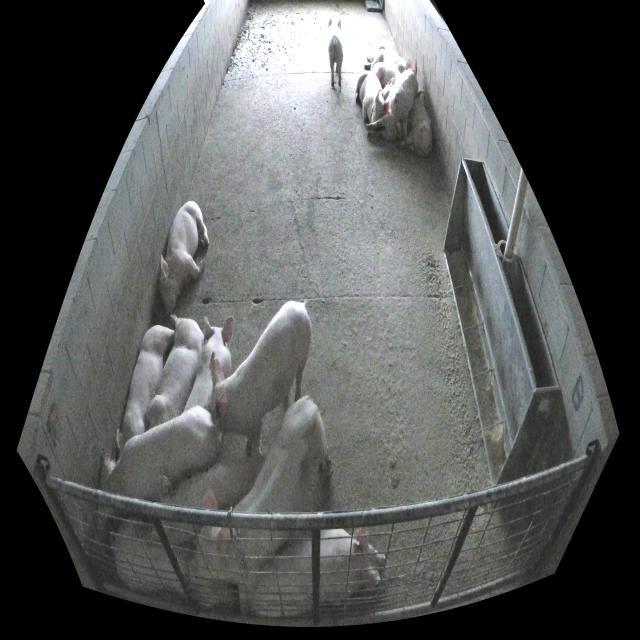pig: (194, 396, 327, 612), (206, 301, 310, 451), (251, 527, 386, 616), (151, 443, 266, 545), (111, 518, 228, 606), (105, 407, 213, 499), (117, 326, 174, 454), (148, 314, 204, 428), (160, 201, 210, 313), (184, 317, 234, 411), (390, 57, 418, 140), (399, 91, 432, 156), (366, 78, 398, 140), (356, 71, 389, 123), (364, 45, 406, 74), (328, 17, 343, 87), (371, 63, 400, 90)
